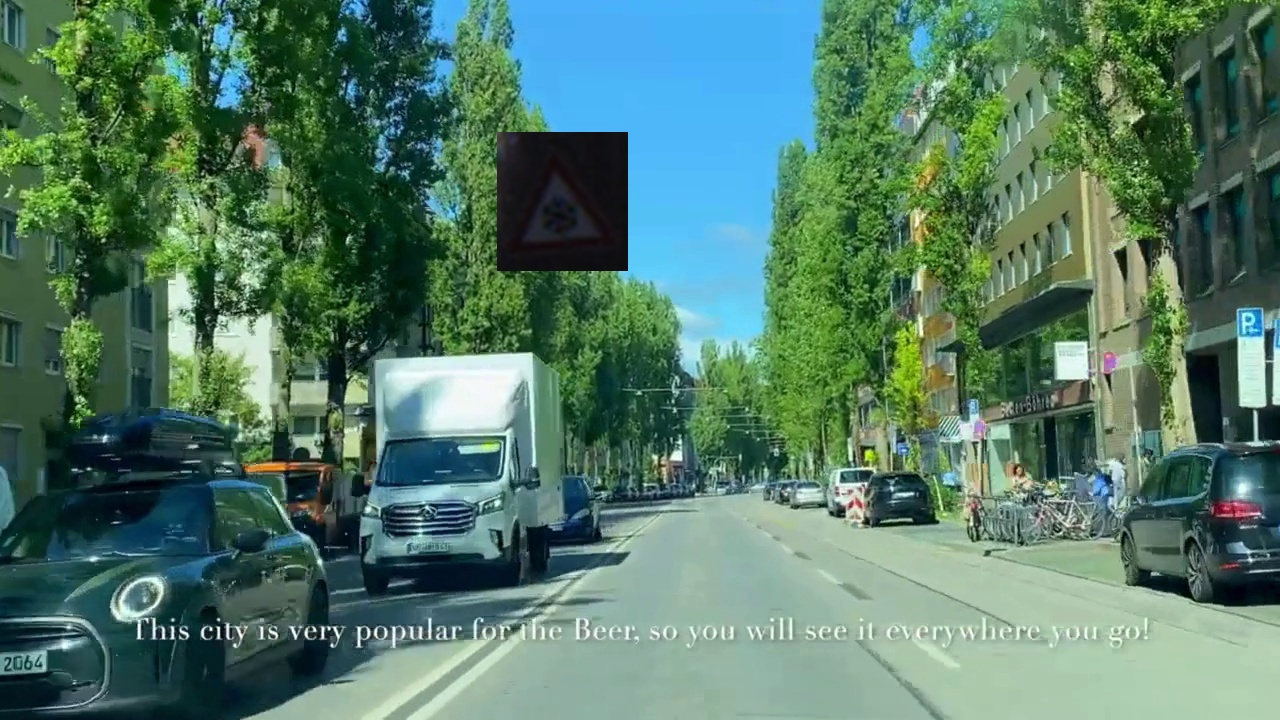Ice/snow: (497, 132, 628, 271)
